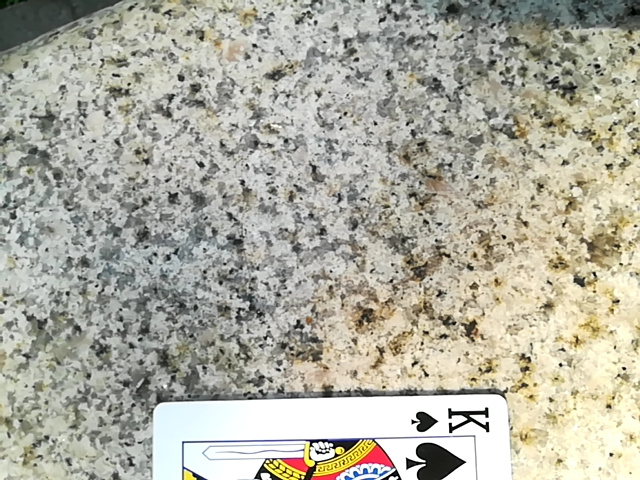ht k: (132, 391, 520, 479)
